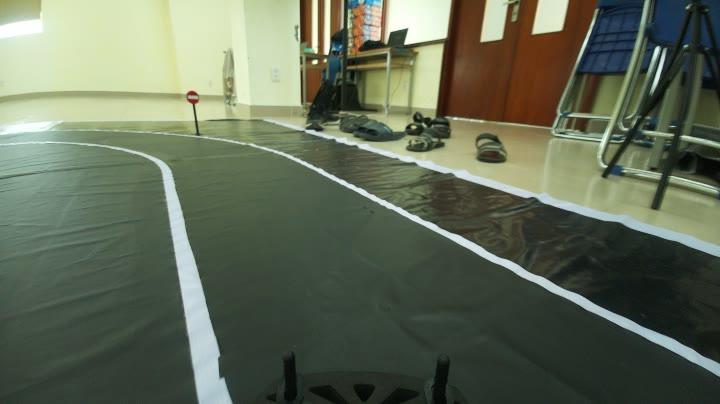no_entry: (181, 84, 203, 106)
